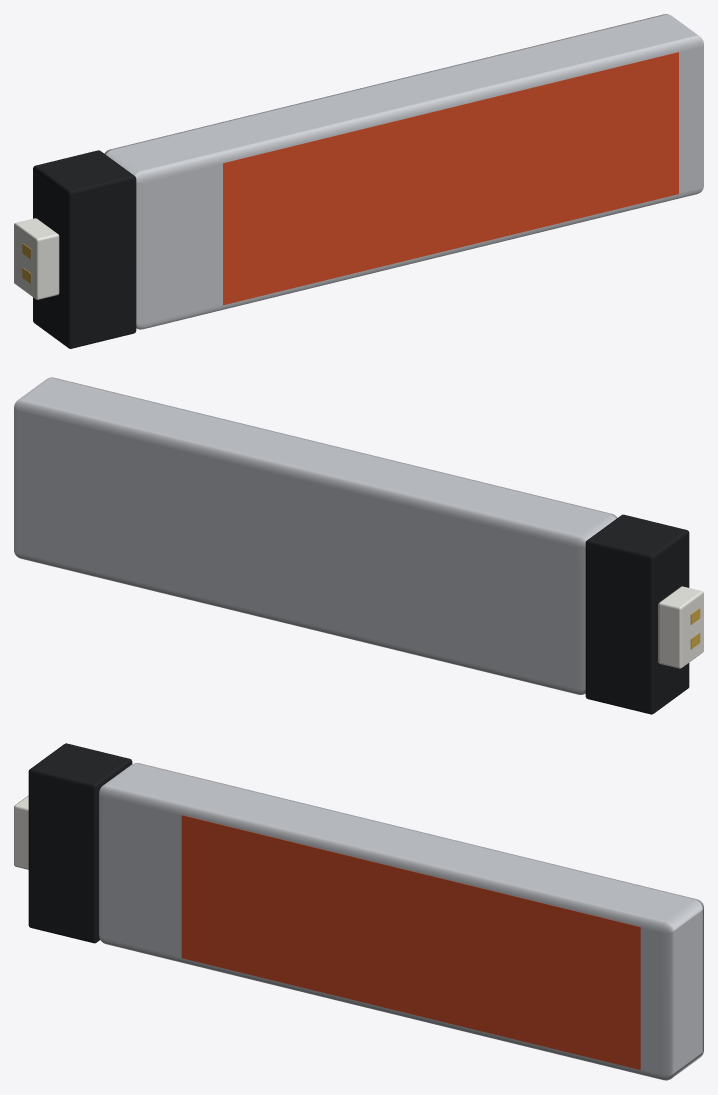
Rendered from betafpv-lava-1s-550.glb.
The picture shows the model from 3 angles, top to bottom: view 1: azimuth 30°, elevation 25°; view 2: azimuth 150°, elevation 25°; view 3: azimuth 330°, elevation 25°; orthographic projection.
Visible parts, largest first — view 1: label, body, connector_housing, connector; view 2: body, connector_housing, connector; view 3: label, body, connector_housing, connector.
Part boxes in pixels (left/top/right/bottom): label: left=223, top=52, right=678, bottom=305; body: left=104, top=14, right=703, bottom=329; connector_housing: left=33, top=150, right=136, bottom=348; connector: left=14, top=218, right=59, bottom=299; body: left=14, top=377, right=617, bottom=694; connector_housing: left=585, top=514, right=689, bottom=714; connector: left=658, top=586, right=703, bottom=668; label: left=181, top=815, right=640, bottom=1069; body: left=99, top=763, right=703, bottom=1080; connector_housing: left=28, top=743, right=132, bottom=943; connector: left=14, top=795, right=28, bottom=869.
Size of the model in its own units: 68.05 by 15.5 by 6.73.
